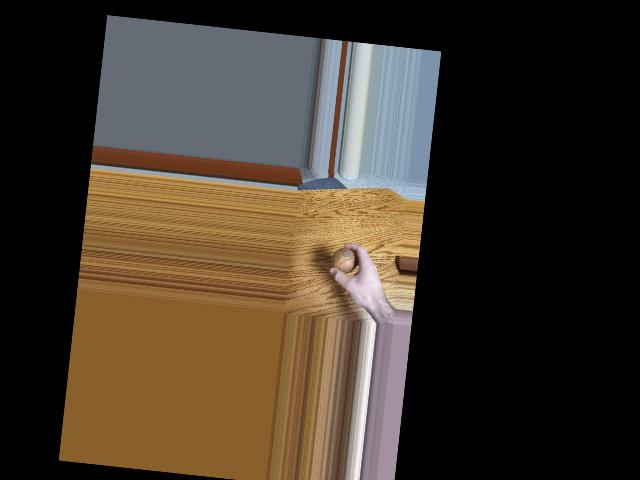onion: (331, 245, 363, 278)
